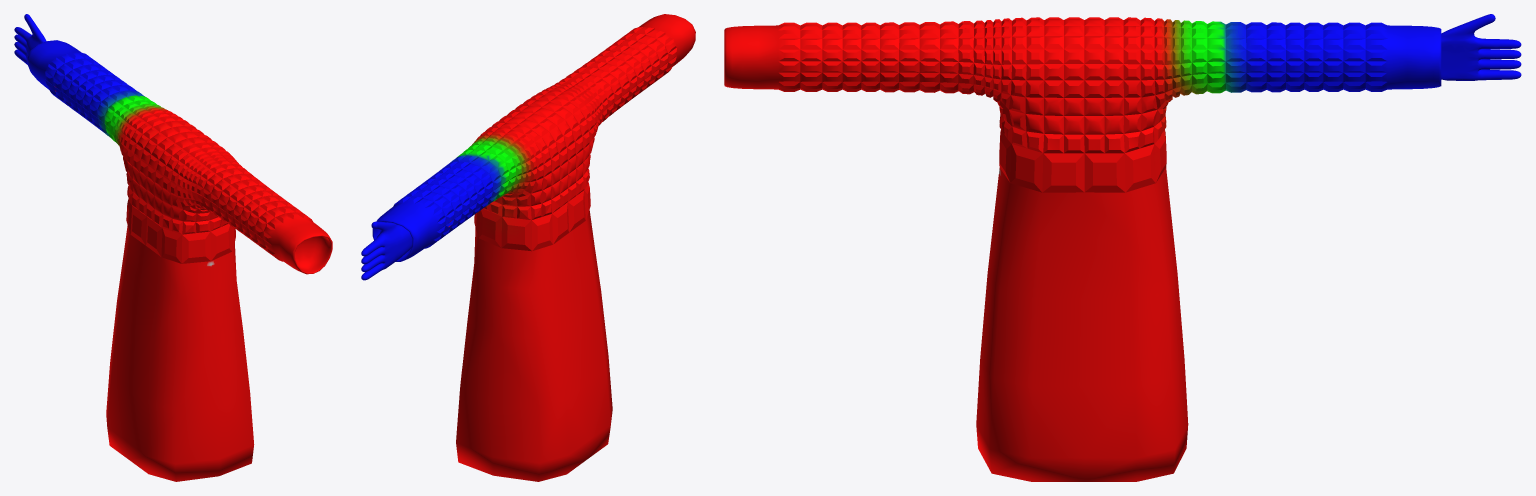
The model's file is char3.obj.
The picture shows the model from 3 angles, left to right: view 1: azimuth 30°, elevation 25°; view 2: azimuth 150°, elevation 25°; view 3: azimuth 270°, elevation 25°; orthographic projection. The views are drawn at different scales.
Bounding box in the file's own units: 4.53 × 13.23 × 22.03.
1 material, 1 textured.
